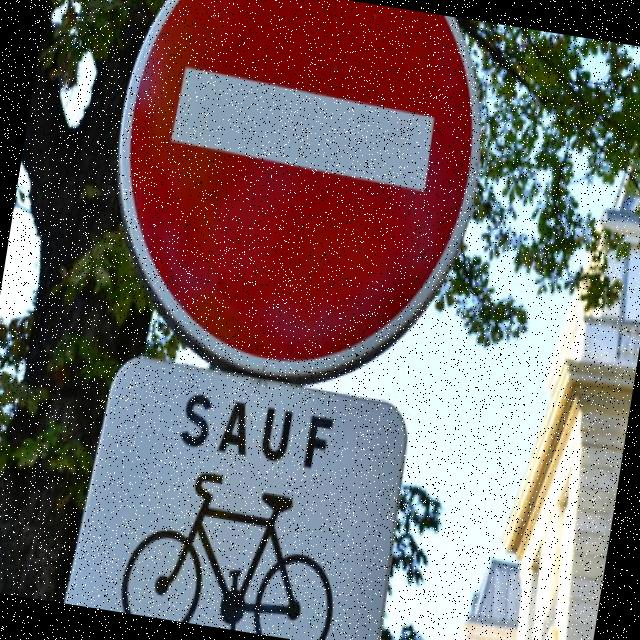do_not_enter: (71, 0, 518, 413)
